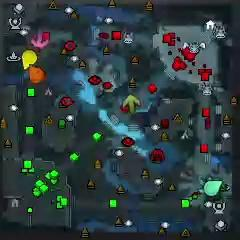p2: (205, 180, 222, 195)
p4: (22, 50, 37, 70)
p5: (28, 65, 44, 83)
x1: (30, 30, 49, 51)
x2: (122, 95, 141, 112)
x3: (198, 176, 213, 194)
